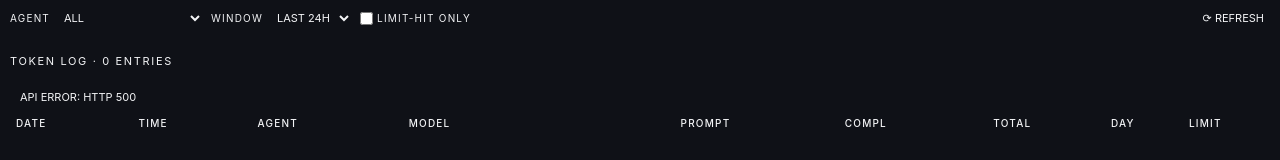
Test case: TokensPanelV2 request-failure messaging › clears the 500 error after a successful refresh
Check: the text "API ERROR: HTTP 500" is shown, box [20, 90, 136, 104]
What coordinates should you click on to do the following:
click the button "⟳ REFRESH"
I would click on:
 (1233, 18)
Its box is [1197, 8, 1270, 28].
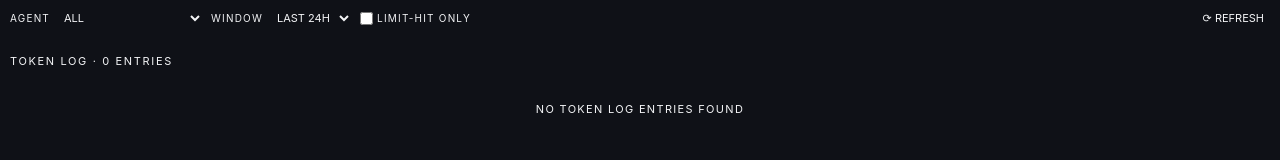
Check: the text "API ERROR: HTTP 500" is gone
